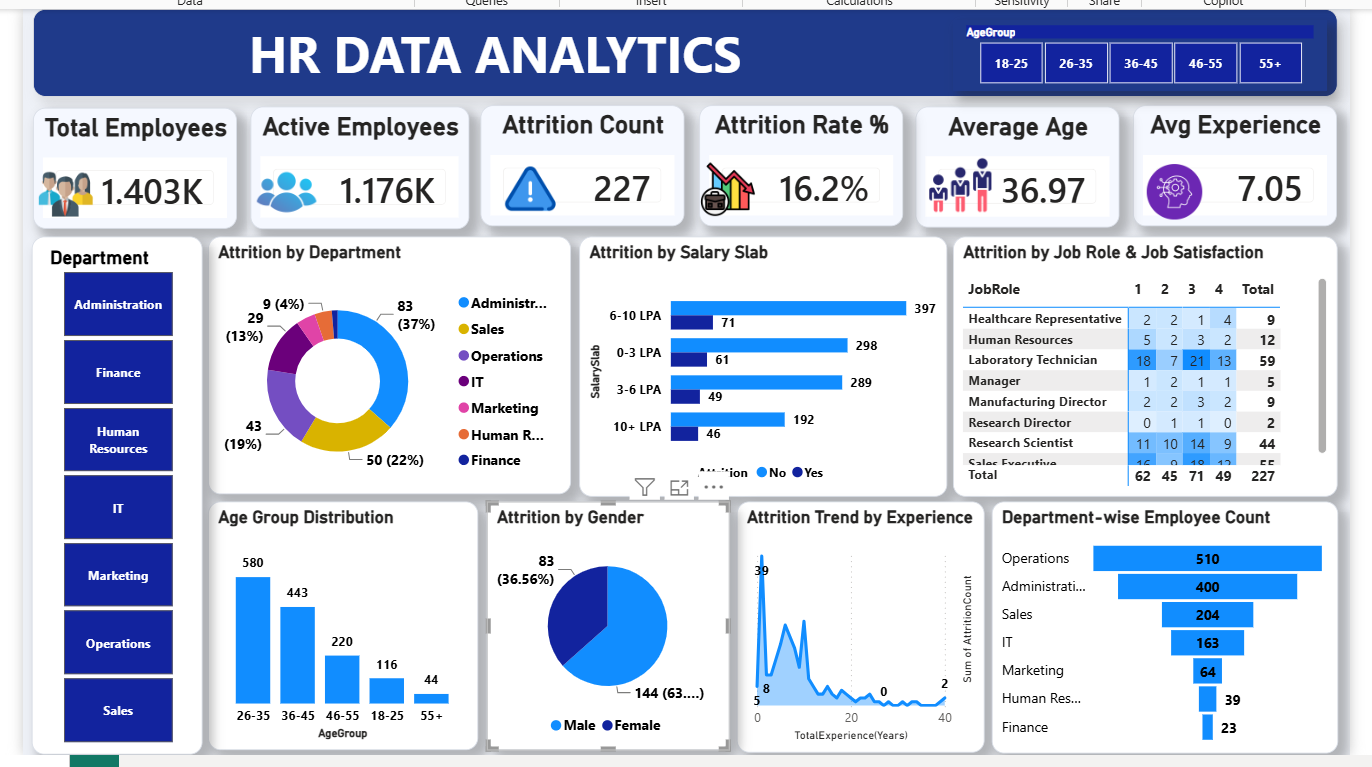

Layout of this report page (visuals, bound fields, positions):
{"tool":"powerbi","page":{"name":"Page 1","canvas":[1280,720],"ordinal":0},"visuals":[{"type":"textbox","box":[10,0,1259,85],"z":0},{"type":"cardVisual","title":"Total Employees","fields":{"Data":["CountNonNull(HR_Analytics-4.EmpID)"]},"box":[10,95,197,117],"z":1},{"type":"cardVisual","title":"Active Employees","fields":{"Data":["CountNonNull(HR_Analytics-4.EmployeeCount)"]},"box":[219.6,94.7,211.3,118],"z":2},{"type":"cardVisual","title":"Attrition Count","fields":{"Data":["Sum(HR_Analytics-4.AttritionCount)"]},"box":[441.9,93.3,197,117],"z":3},{"type":"cardVisual","title":"Avg Experience","fields":{"Data":["Avg(HR_Analytics-4.YearsatCompany)"]},"box":[1071.7,93.3,197,117],"z":4},{"type":"cardVisual","title":"Average Age","fields":{"Data":["Avg(HR_Analytics-4.Age)"]},"box":[861.8,94.7,197,117],"z":5},{"type":"cardVisual","title":"Attrition Rate %","fields":{"Data":["HR_Analytics-4.Attrition Rate %"]},"box":[653.2,93.3,197,117],"z":6},{"type":"image","box":[9.6,152.3,63.1,53.5],"z":7},{"type":"image","box":[225,146.8,57.6,59],"z":8},{"type":"image","box":[461.1,145.5,57.6,54.9],"z":9},{"type":"image","box":[653.2,146.8,54.9,53.5],"z":10},{"type":"image","box":[1084.1,146.8,53.5,59],"z":11},{"type":"image","box":[874.1,140,60.4,60.4],"z":12},{"type":"donutChart","title":"Attrition by Department","fields":{"Category":["HR_Analytics-4.Department"],"Y":["Sum(HR_Analytics-4.AttritionCount)"]},"box":[179,220,350,249],"z":13},{"type":"clusteredBarChart","title":"Attrition by Salary Slab","fields":{"Category":["HR_Analytics-4.SalarySlab"],"Y":["CountNonNull(HR_Analytics-4.EmpID)"],"Series":["HR_Analytics-4.Attrition"]},"box":[537,220,355,251],"z":14},{"type":"pivotTable","title":"Attrition by Job Role & Job Satisfaction","fields":{"Rows":["HR_Analytics-4.JobRole"],"Values":["Sum(HR_Analytics-4.AttritionCount)"],"Columns":["HR_Analytics-4.JobSatisfaction"]},"box":[898,220,371,251],"z":15},{"type":"columnChart","title":"Age Group Distribution","fields":{"Category":["HR_Analytics-4.AgeGroup"],"Y":["Sum(HR_Analytics-4.EmployeeCount)"]},"box":[179,475,261,240],"z":16},{"type":"pieChart","title":"Attrition by Gender","fields":{"Y":["Sum(HR_Analytics-4.AttritionCount)"],"Category":["HR_Analytics-4.Gender"]},"box":[448,475,234,240],"z":17},{"type":"areaChart","title":"Attrition Trend by Experience","fields":{"Y2":["Sum(HR_Analytics-4.AttritionCount)"],"Category":["HR_Analytics-4.TotalExperience(Years)"]},"box":[689,475,239,242],"z":18},{"type":"funnel","title":"Department-wise Employee Count","fields":{"Category":["HR_Analytics-4.Department"],"Y":["CountNonNull(HR_Analytics-4.EmpID)"]},"box":[934.5,474.8,334,242.9],"z":19},{"type":"slicer","fields":{"Values":["HR_Analytics-4.Department"]},"box":[9,219,165,500],"z":20},{"type":"slicer","fields":{"Values":["HR_Analytics-4.AgeGroup"]},"box":[898,11,361,68],"z":21}]}

Visuals, with their boxes on the page's 1280x720 design canvas (x1, y1, x2, y2). These are canvas units, not pixel positions in the 1372x767 screenshot, which may show the page scaled, cropped or inside an application window:
textbox: x1=10 y1=0 x2=1269 y2=85
"Total Employees" cardVisual: x1=10 y1=95 x2=207 y2=212
"Active Employees" cardVisual: x1=220 y1=95 x2=431 y2=213
"Attrition Count" cardVisual: x1=442 y1=93 x2=639 y2=210
"Avg Experience" cardVisual: x1=1072 y1=93 x2=1269 y2=210
"Average Age" cardVisual: x1=862 y1=95 x2=1059 y2=212
"Attrition Rate %" cardVisual: x1=653 y1=93 x2=850 y2=210
image: x1=10 y1=152 x2=73 y2=206
image: x1=225 y1=147 x2=283 y2=206
image: x1=461 y1=146 x2=519 y2=200
image: x1=653 y1=147 x2=708 y2=200
image: x1=1084 y1=147 x2=1138 y2=206
image: x1=874 y1=140 x2=934 y2=200
"Attrition by Department" donutChart: x1=179 y1=220 x2=529 y2=469
"Attrition by Salary Slab" clusteredBarChart: x1=537 y1=220 x2=892 y2=471
"Attrition by Job Role & Job Satisfaction" pivotTable: x1=898 y1=220 x2=1269 y2=471
"Age Group Distribution" columnChart: x1=179 y1=475 x2=440 y2=715
"Attrition by Gender" pieChart: x1=448 y1=475 x2=682 y2=715
"Attrition Trend by Experience" areaChart: x1=689 y1=475 x2=928 y2=717
"Department-wise Employee Count" funnel: x1=934 y1=475 x2=1268 y2=718
slicer - HR_Analytics-4.Department: x1=9 y1=219 x2=174 y2=719
slicer - HR_Analytics-4.AgeGroup: x1=898 y1=11 x2=1259 y2=79
